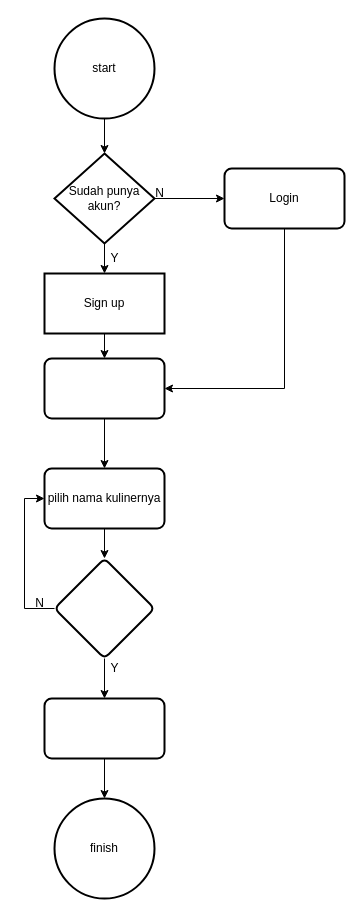
This 363x916 diagram has some shape labels left out. The centre of each missing label's shape, as x and y in pixels:
"apakah kuliner akan dibuat?" goes at (x=104, y=608).
"ikuti resep dan cara membuatnya" goes at (x=104, y=728).
"pilih negara yang ingin dilihat kulinernya" goes at (x=104, y=388).
